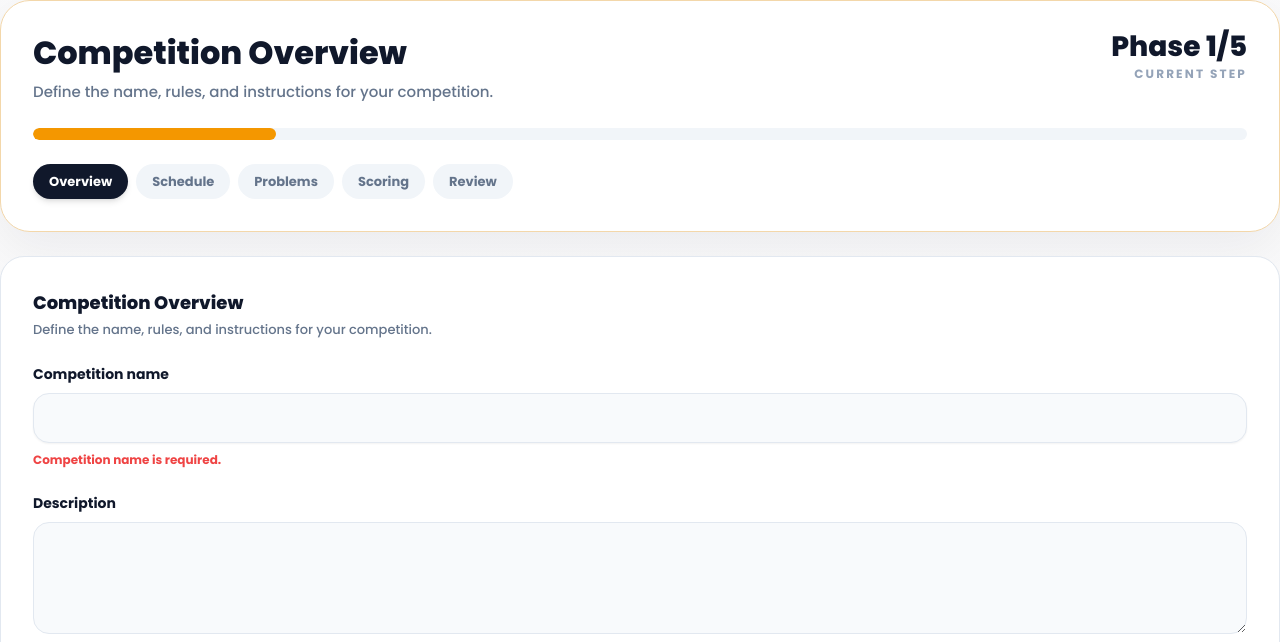
Test: CompetitionWizard selection and custom scoring › supports bulk visible selection and removes duplicate scoring explanation card
Click the button "Problems". click: (286, 181)
box: [238, 164, 334, 199]
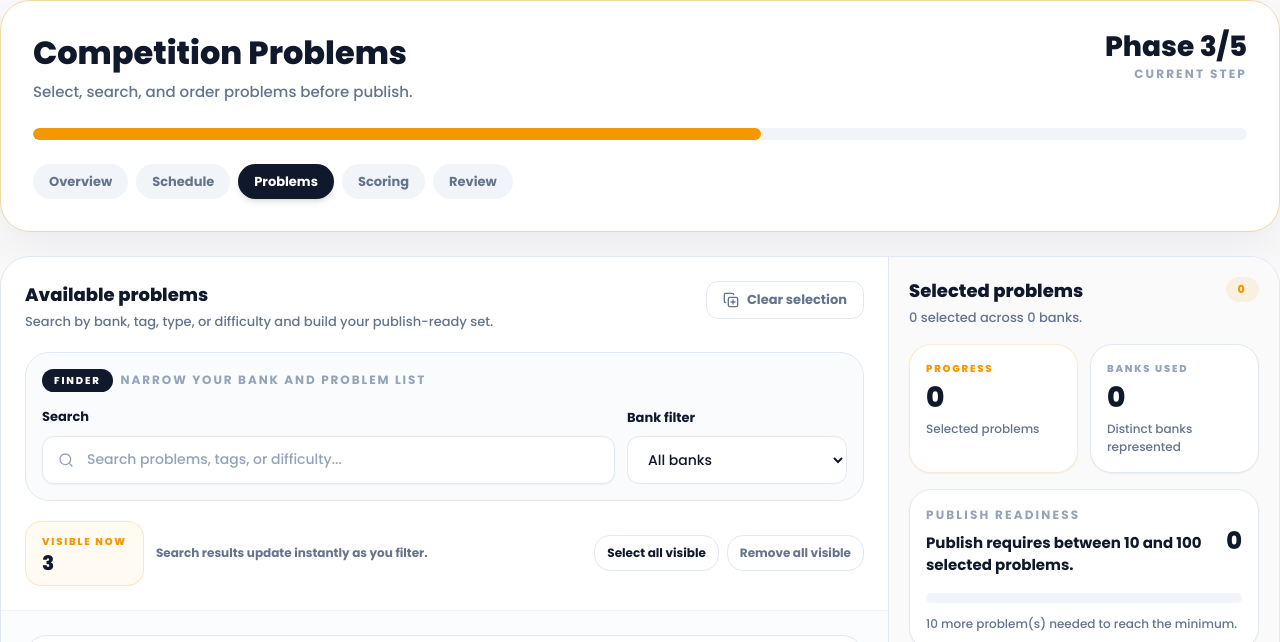
Click the button "Select all visible". click: (657, 553)
box: [594, 535, 719, 571]
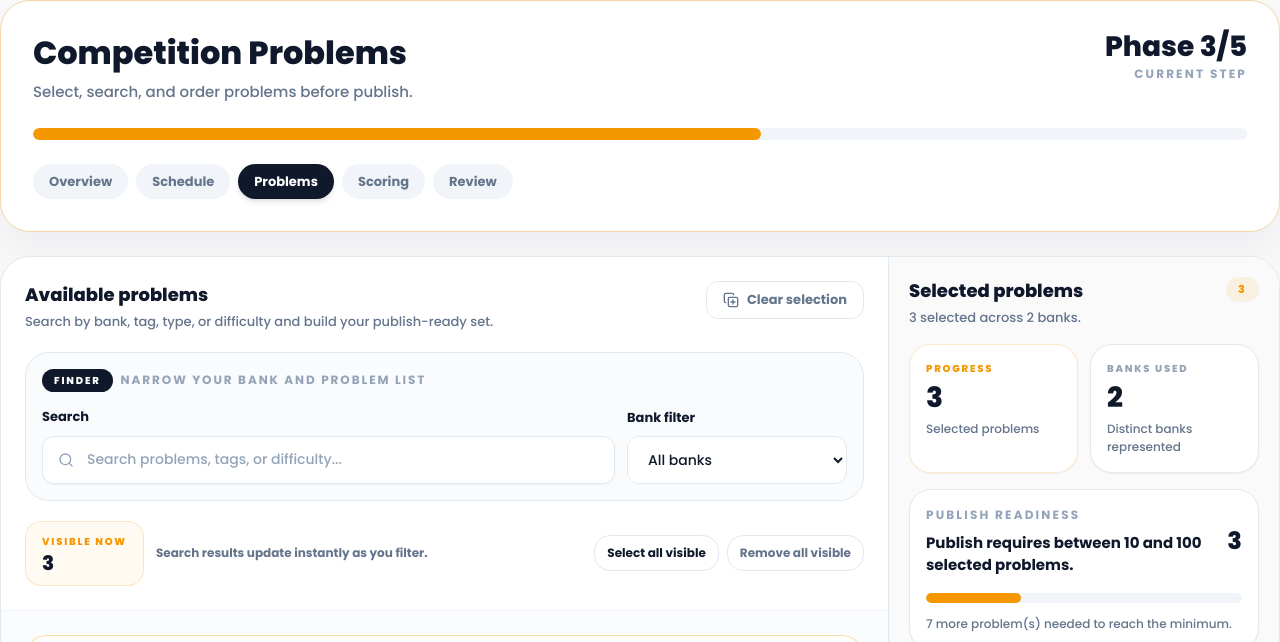
Click the button "Scoring". click: (383, 181)
box: [342, 164, 425, 199]
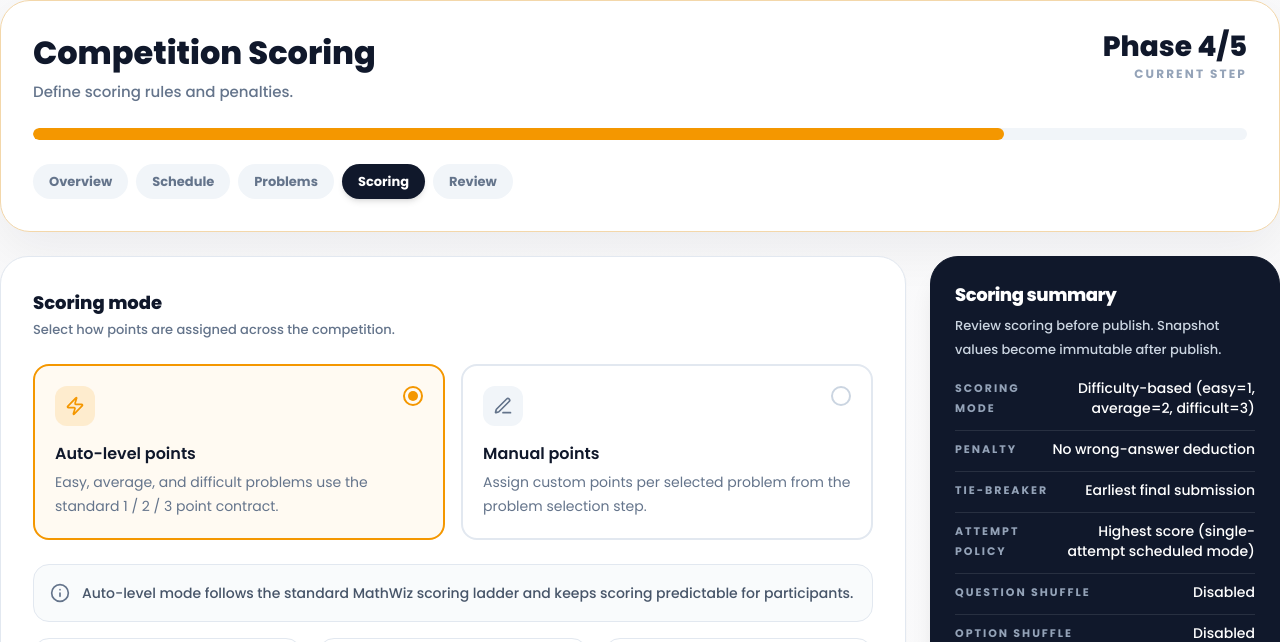
Result: the text "Scoring summary" is shown at [955, 282, 1116, 307]
